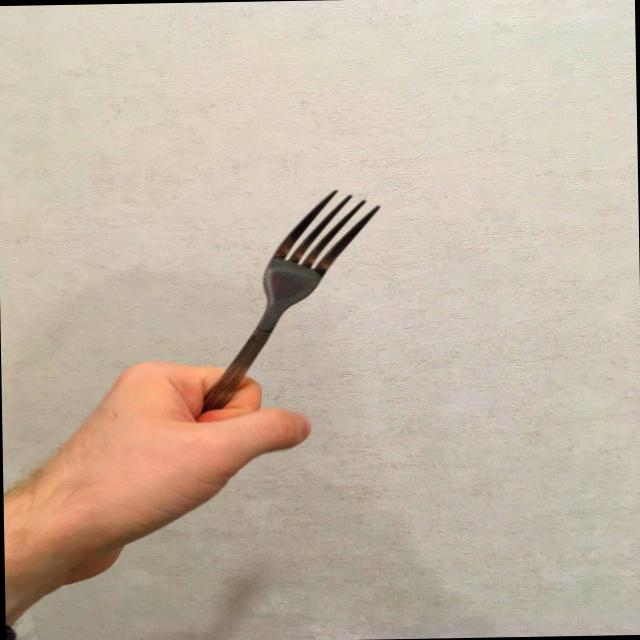fork: (188, 186, 388, 425)
